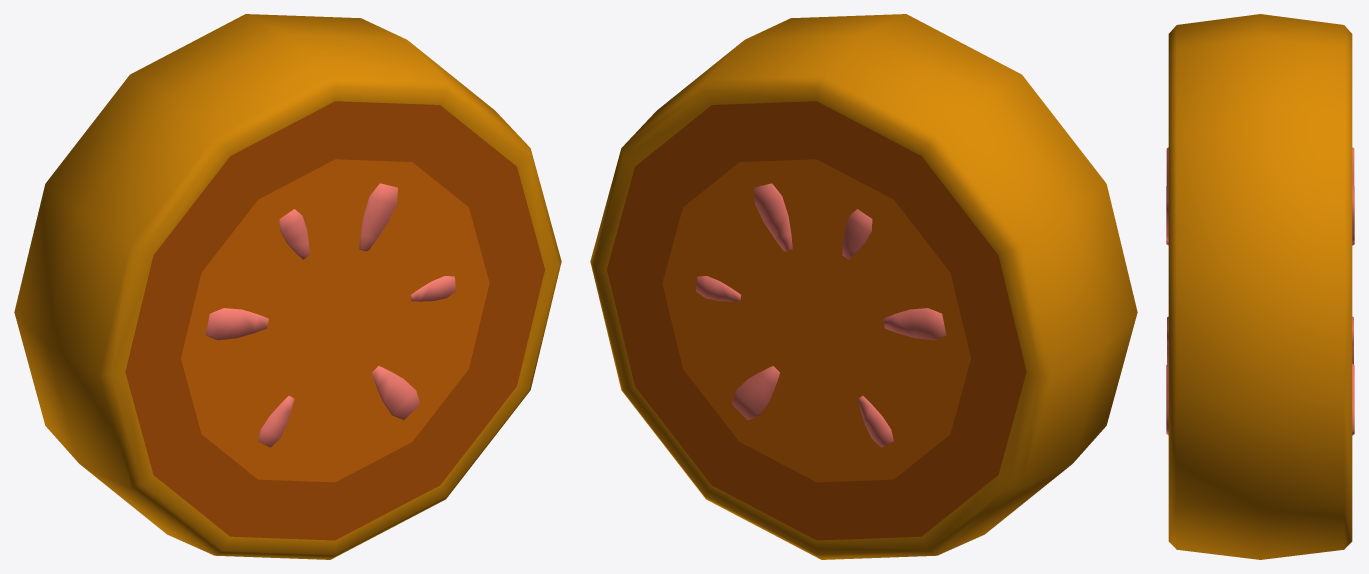
The model's file is Zucchini_yellow_slice.fbx.
3 views of the same model, side by side, from view 1: azimuth 30°, elevation 25°; view 2: azimuth 150°, elevation 25°; view 3: azimuth 270°, elevation 25° (orthographic).
Visible parts, largest first — view 1: Zucchini_yellow_slice; view 2: Zucchini_yellow_slice; view 3: Zucchini_yellow_slice.
Boxes of the visible parts, <box> form: Zucchini_yellow_slice: <box>14,14,561,559</box>; Zucchini_yellow_slice: <box>590,14,1137,559</box>; Zucchini_yellow_slice: <box>1166,14,1354,559</box>.
Bounding box in the file's own units: 39.56 × 13.64 × 39.65.
